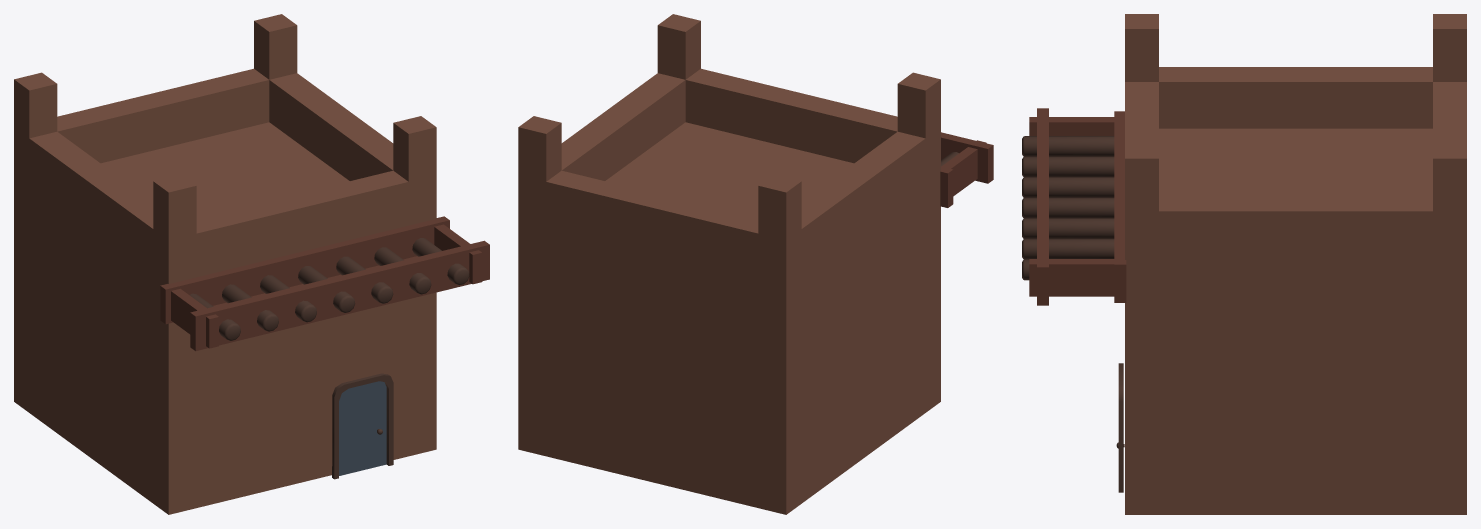
Rendered from Building_02_WIP.fbx.
3 renders of one model, left to right at view 1: azimuth 30°, elevation 25°; view 2: azimuth 150°, elevation 25°; view 3: azimuth 270°, elevation 25°, orthographic. The views are drawn at different scales.
Visible parts, largest first — view 1: Cube, OldWomenHouse.001, Door, OldWomenHouse.002, OldWomenHouse.003; view 2: Cube, OldWomenHouse.001, OldWomenHouse.003; view 3: Cube, OldWomenHouse.002, OldWomenHouse.001, OldWomenHouse.003, Door.
Part boxes in pixels (<box>): Cube: <box>14,14,436,514</box>; OldWomenHouse.001: <box>160,216,489,351</box>; Door: <box>332,373,393,479</box>; OldWomenHouse.002: <box>189,238,469,340</box>; OldWomenHouse.003: <box>171,224,482,348</box>; Cube: <box>518,14,940,514</box>; OldWomenHouse.001: <box>940,132,993,207</box>; OldWomenHouse.003: <box>941,140,986,196</box>; Cube: <box>1125,14,1466,514</box>; OldWomenHouse.002: <box>1022,136,1114,280</box>; OldWomenHouse.001: <box>1037,108,1126,305</box>; OldWomenHouse.003: <box>1029,117,1114,296</box>; Door: <box>1116,363,1124,492</box>.
Bounding box in the file's own units: 682 × 719 × 807.
